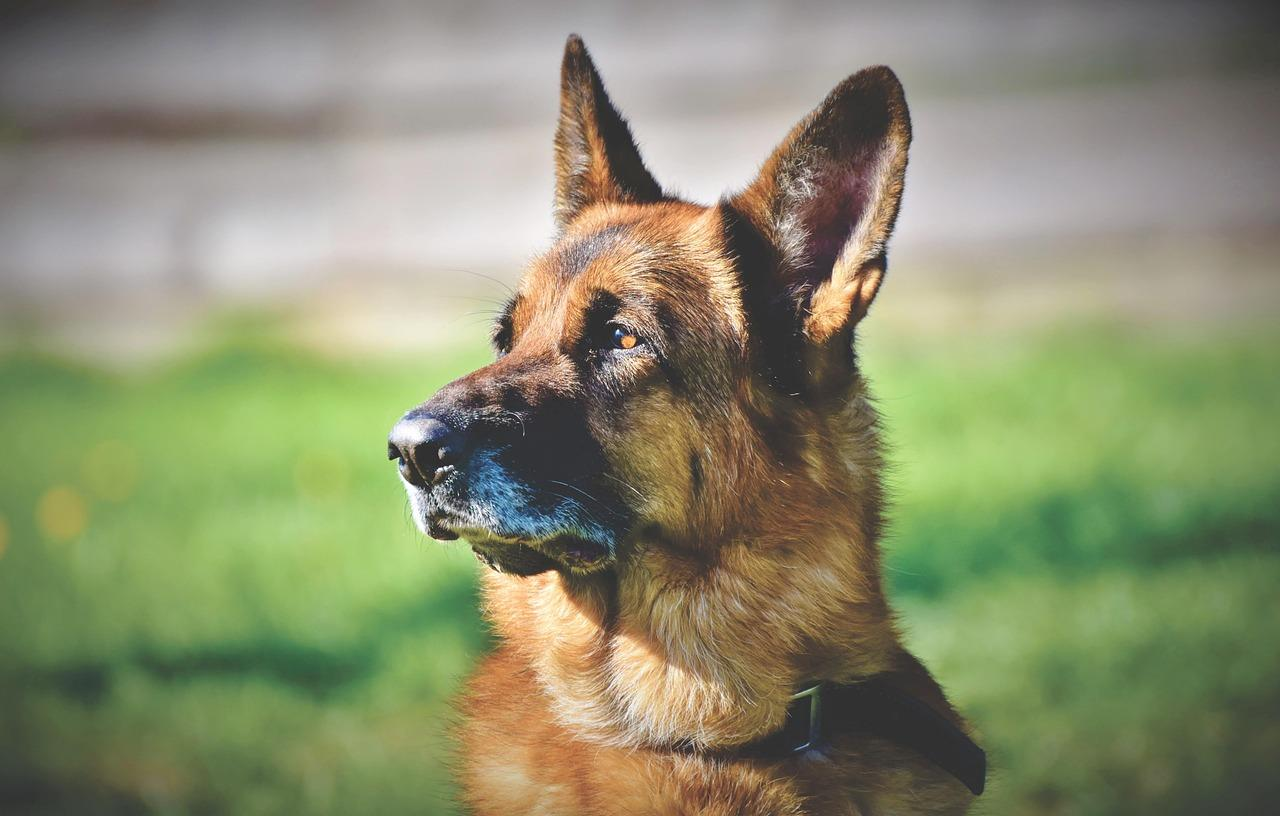german_shepherd: (336, 57, 930, 617)
